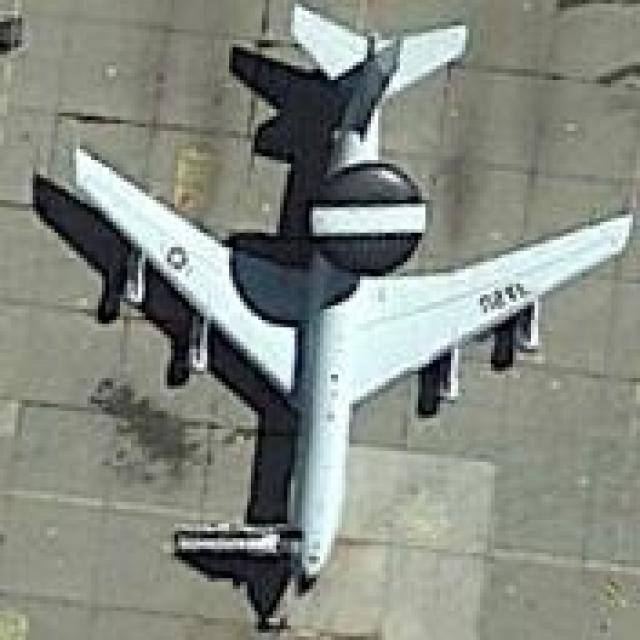E-3_TopDown: (26, 4, 636, 629)
